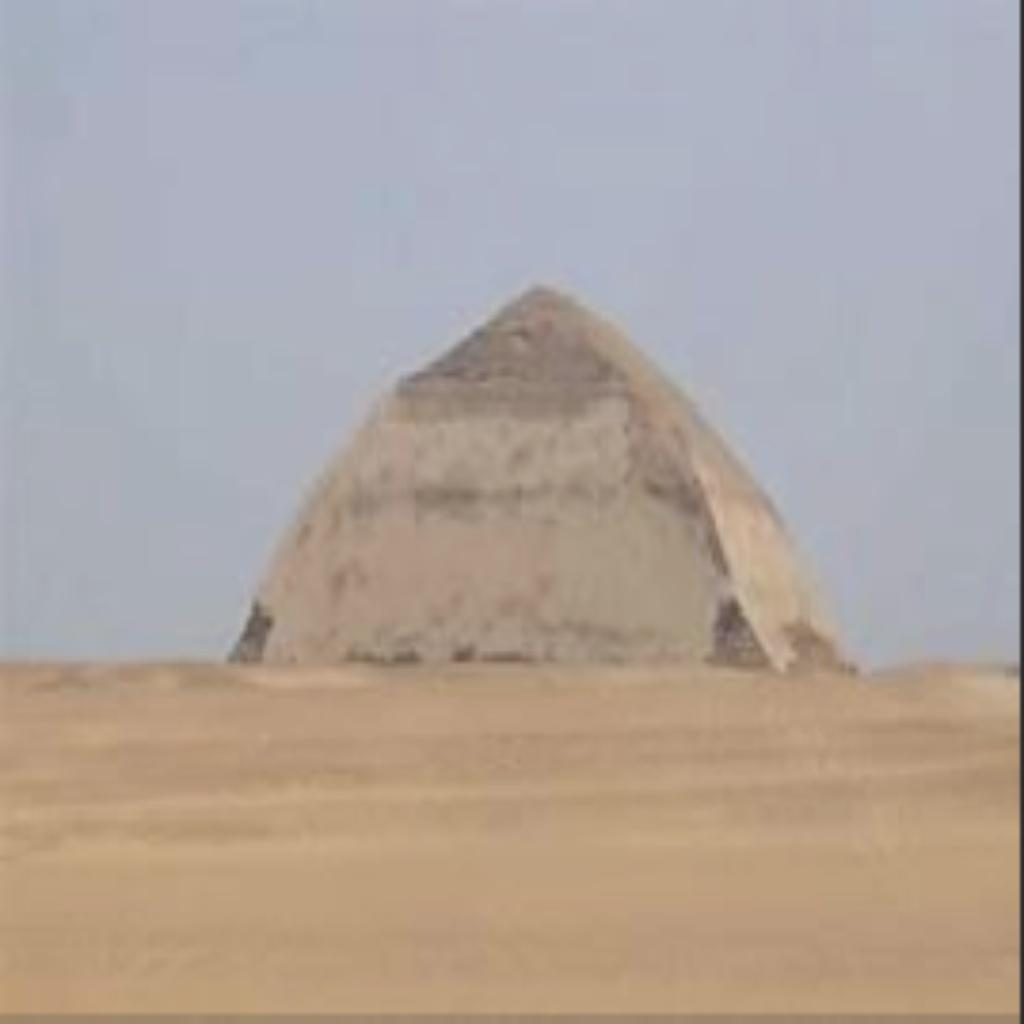Bent Pyramid of King Sneferu: (220, 276, 860, 678)
